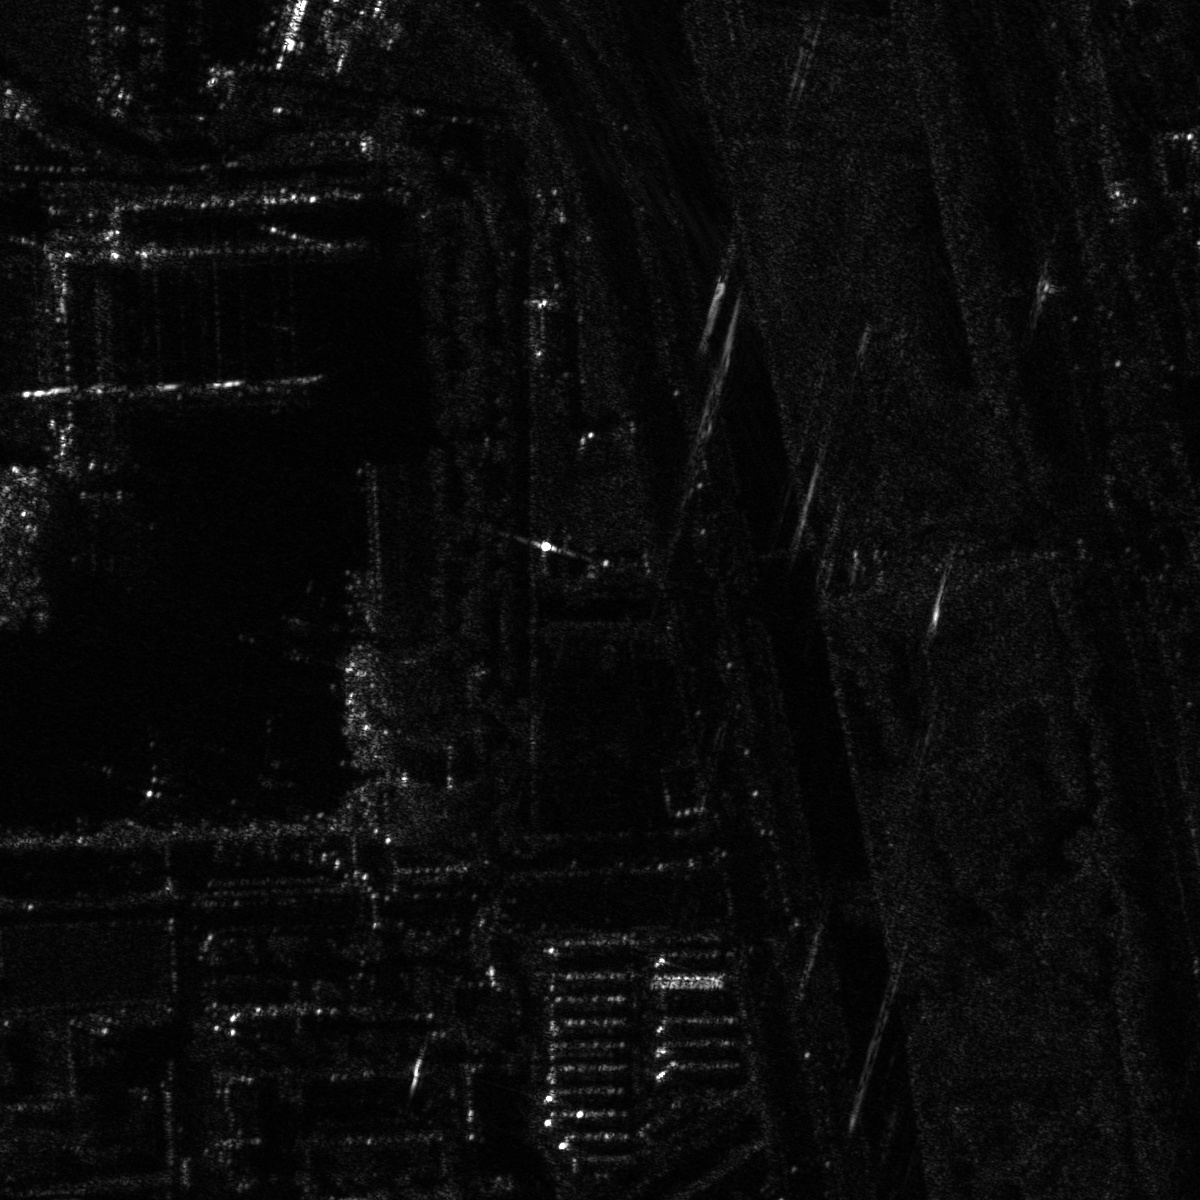Boeing737: (38, 456, 157, 574)
